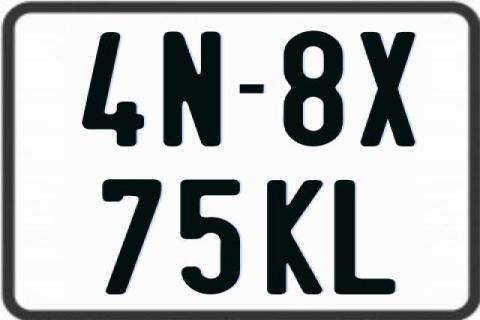0: (81, 31, 149, 149), (281, 31, 343, 151), (102, 177, 165, 295), (179, 180, 241, 298)
K: (264, 177, 326, 293)
L: (332, 179, 399, 299)
N: (163, 29, 222, 145)
X: (358, 30, 417, 146)
